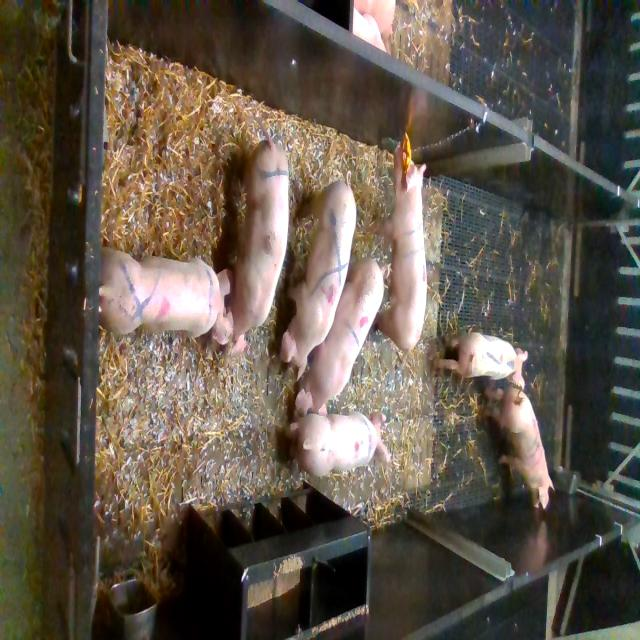pig: (279, 170, 356, 383), (223, 117, 289, 358), (295, 257, 390, 418), (365, 141, 427, 367), (99, 246, 233, 344), (483, 385, 555, 510), (284, 411, 391, 476), (434, 332, 528, 390)
